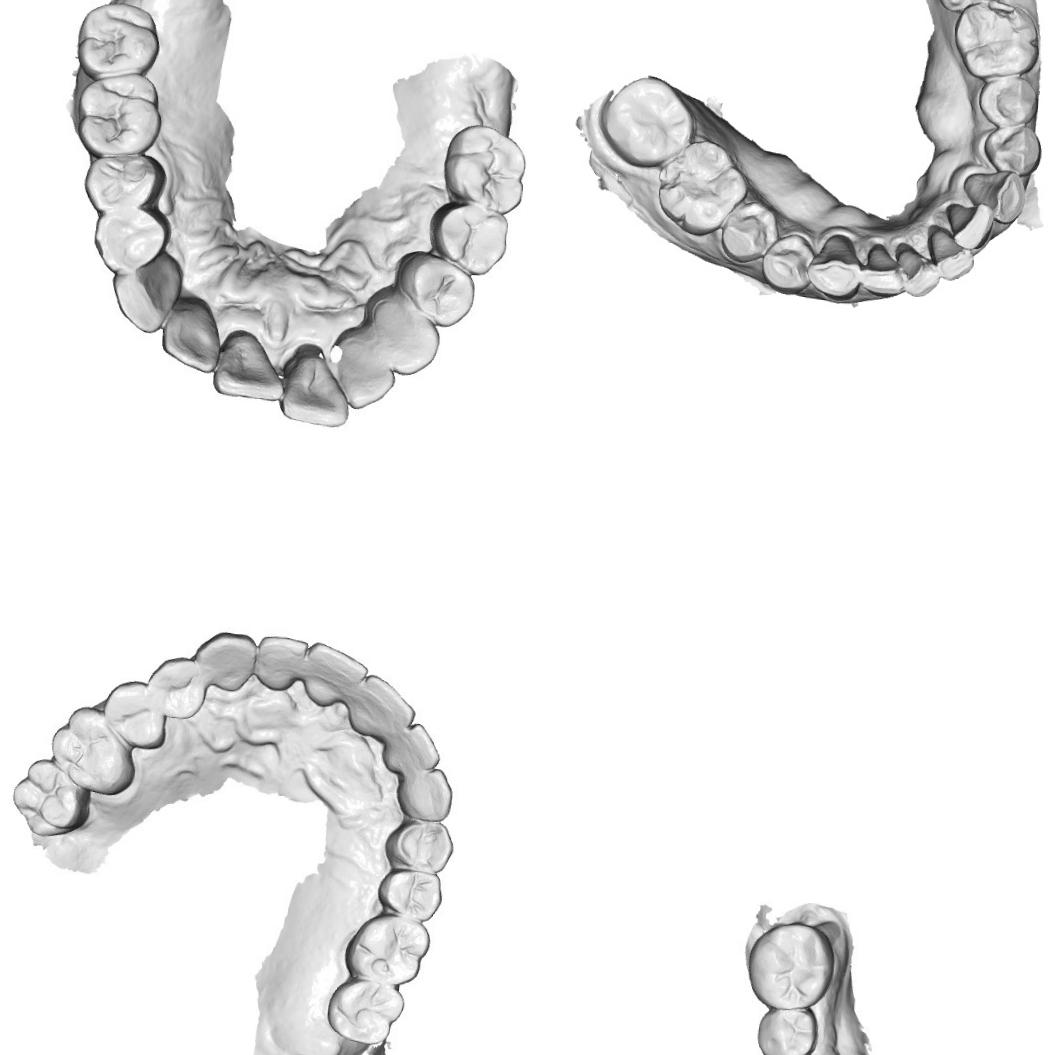canine: (364, 285, 440, 380), (110, 248, 189, 336), (805, 232, 864, 301), (962, 165, 1027, 224), (194, 628, 252, 690), (395, 766, 456, 821)
incisor: (280, 344, 350, 426), (158, 289, 228, 370), (213, 328, 287, 402), (332, 329, 394, 411), (347, 674, 416, 744), (304, 642, 369, 706), (253, 632, 310, 690), (891, 241, 944, 300), (922, 225, 975, 282), (381, 720, 439, 772), (940, 197, 994, 252), (860, 242, 906, 300)
molar: (596, 71, 695, 172), (651, 136, 749, 238), (439, 121, 527, 215), (78, 69, 161, 160), (952, 0, 1042, 82), (48, 708, 133, 791), (70, 0, 157, 81), (750, 924, 829, 1009), (12, 758, 84, 830), (326, 976, 402, 1044), (351, 918, 426, 982)
premolar: (421, 194, 508, 280), (392, 245, 477, 325), (81, 146, 164, 216), (88, 209, 169, 275), (146, 656, 206, 720), (719, 198, 776, 264), (980, 119, 1044, 177), (108, 679, 162, 746), (976, 73, 1039, 129), (759, 232, 812, 294), (390, 820, 455, 869), (755, 1006, 816, 1055), (381, 869, 438, 918)
